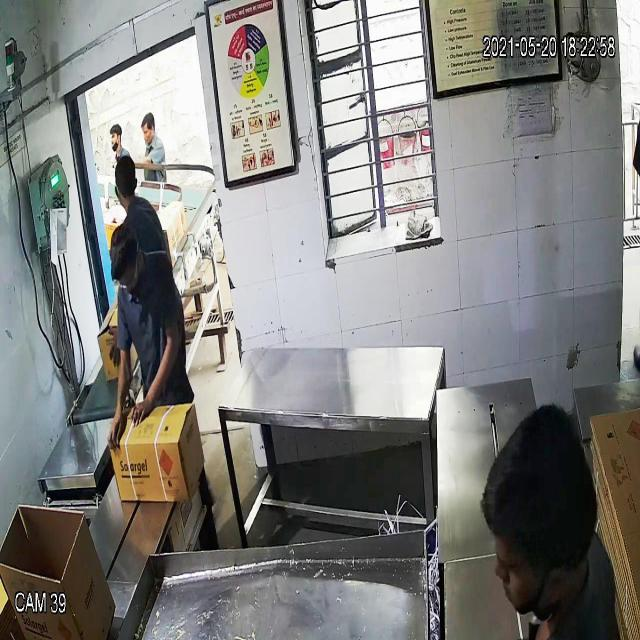glasses: (114, 265, 142, 292)
